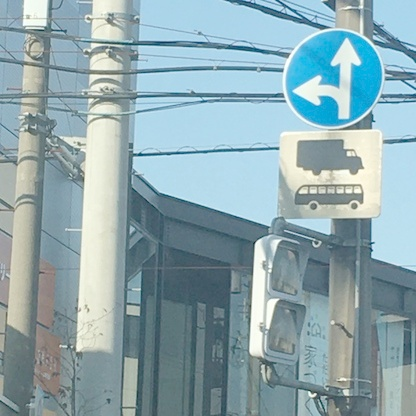Direction_sign: (278, 22, 390, 131)
